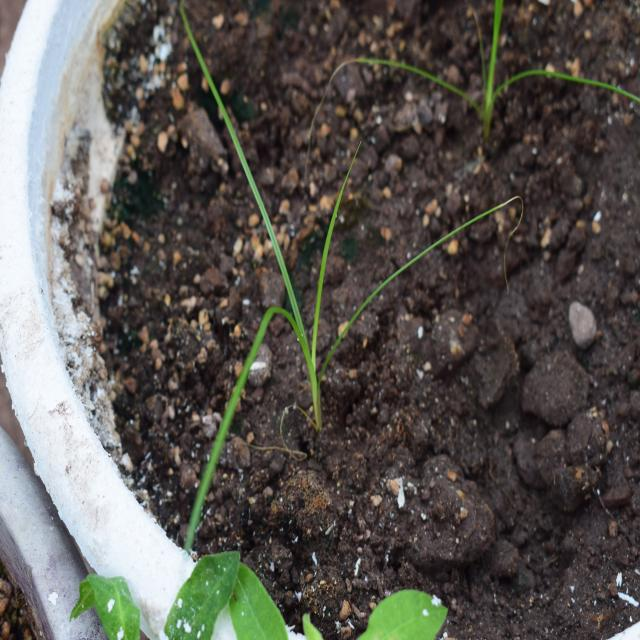sedge: (150, 78, 416, 440)
